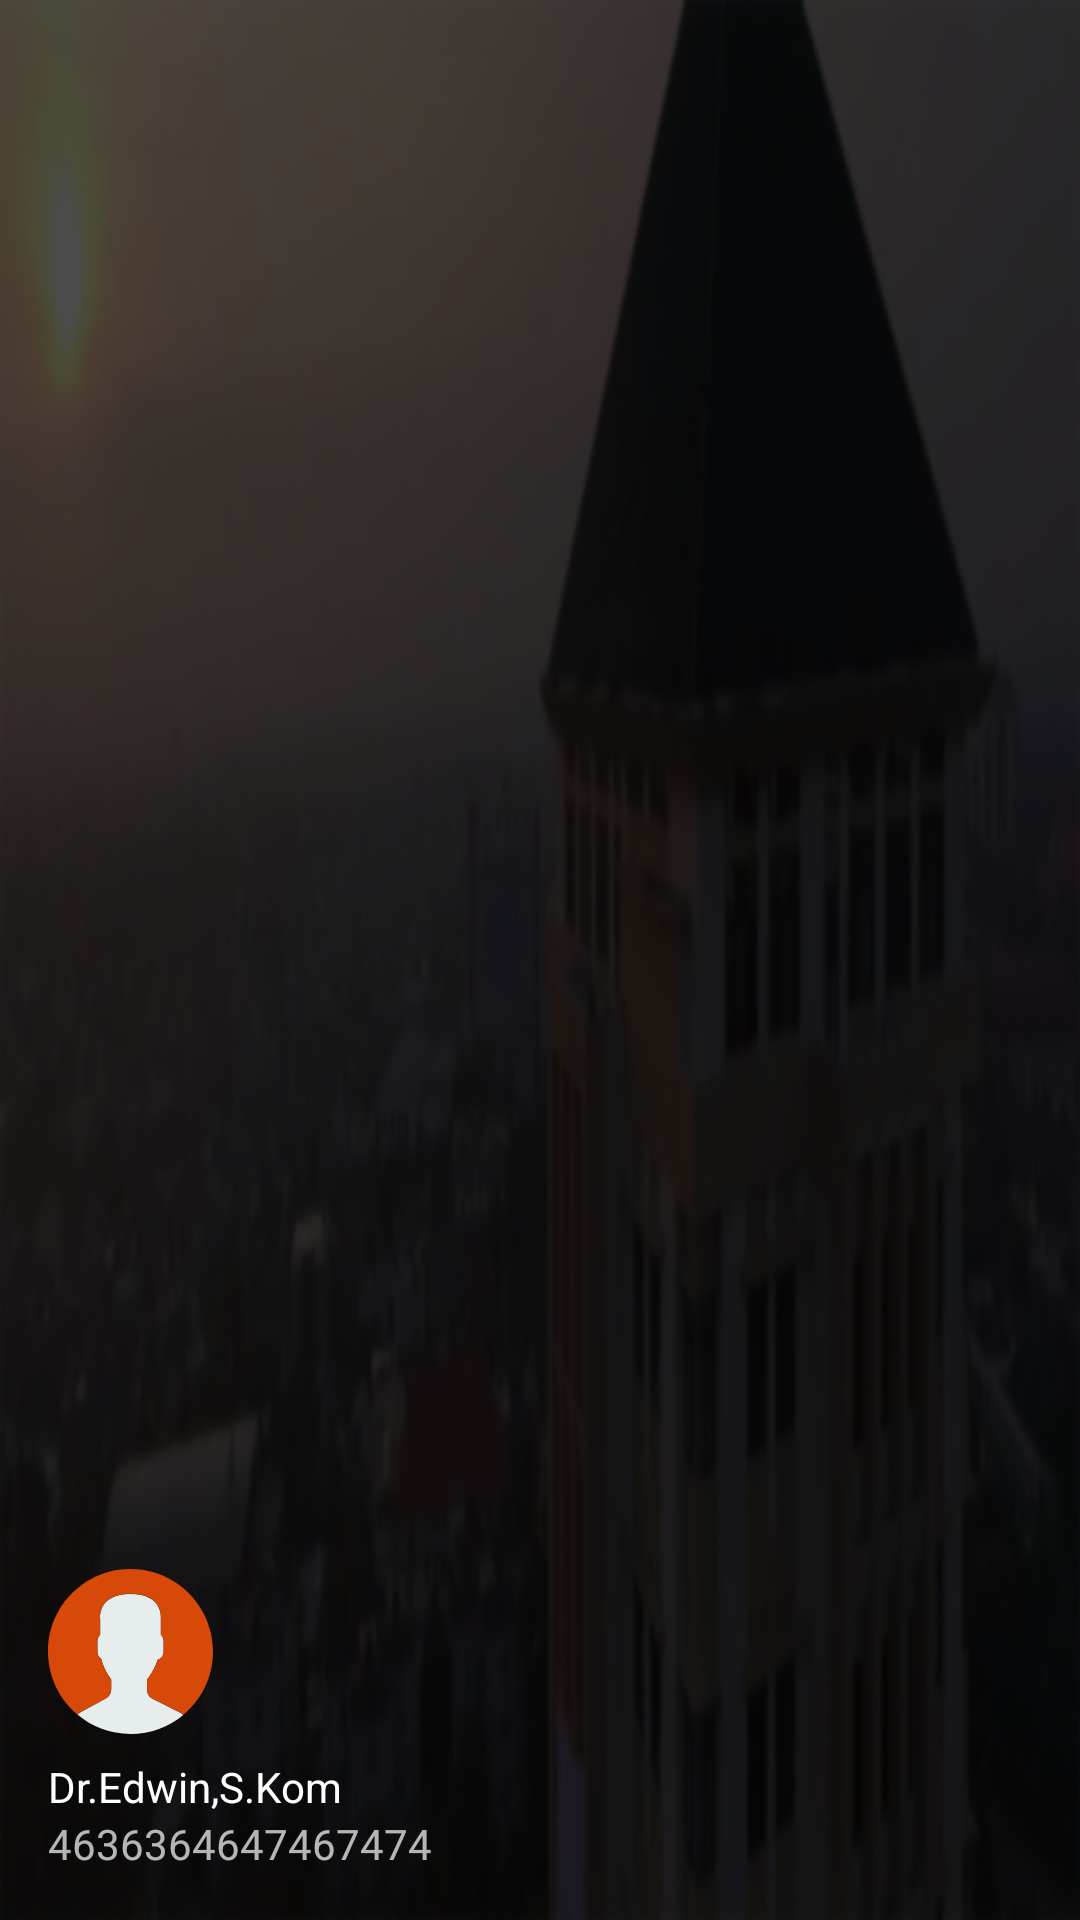

Named icons in this screenshot (1080 × 1920) and their centers, (x=x, y=y):
user: (x=130, y=1651)
